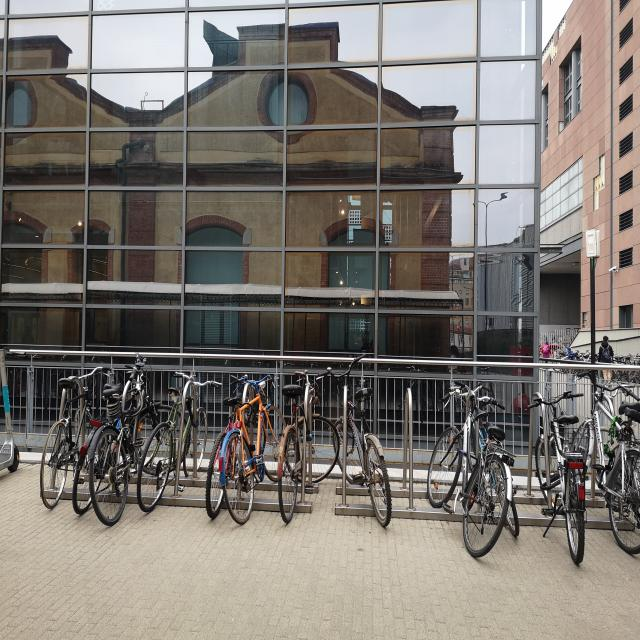Bicycle: (578, 351, 640, 558), (141, 357, 217, 524), (538, 381, 602, 578), (433, 392, 509, 550), (330, 357, 397, 524), (278, 356, 344, 517), (226, 363, 284, 539), (98, 378, 169, 512), (38, 364, 109, 491), (208, 382, 248, 532), (475, 388, 511, 544), (94, 378, 130, 499)
